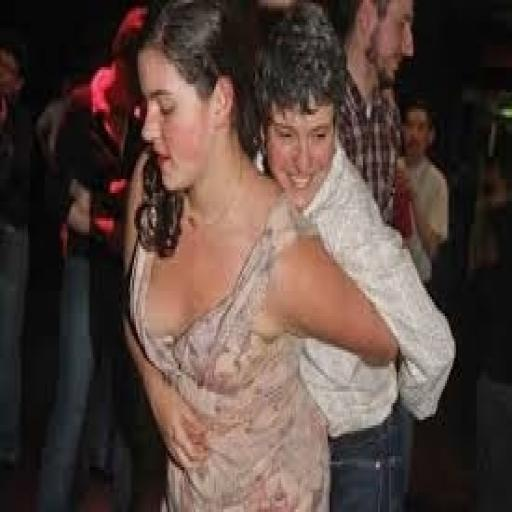dancing: (108, 31, 419, 512)
